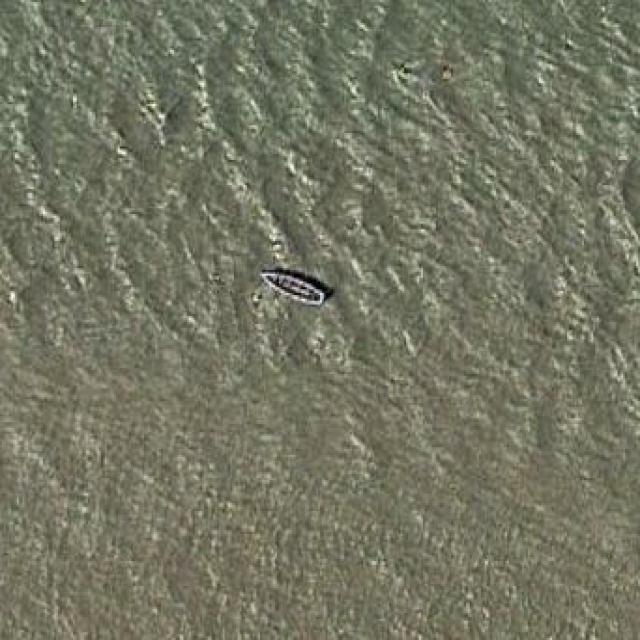boat: (255, 264, 328, 309)
